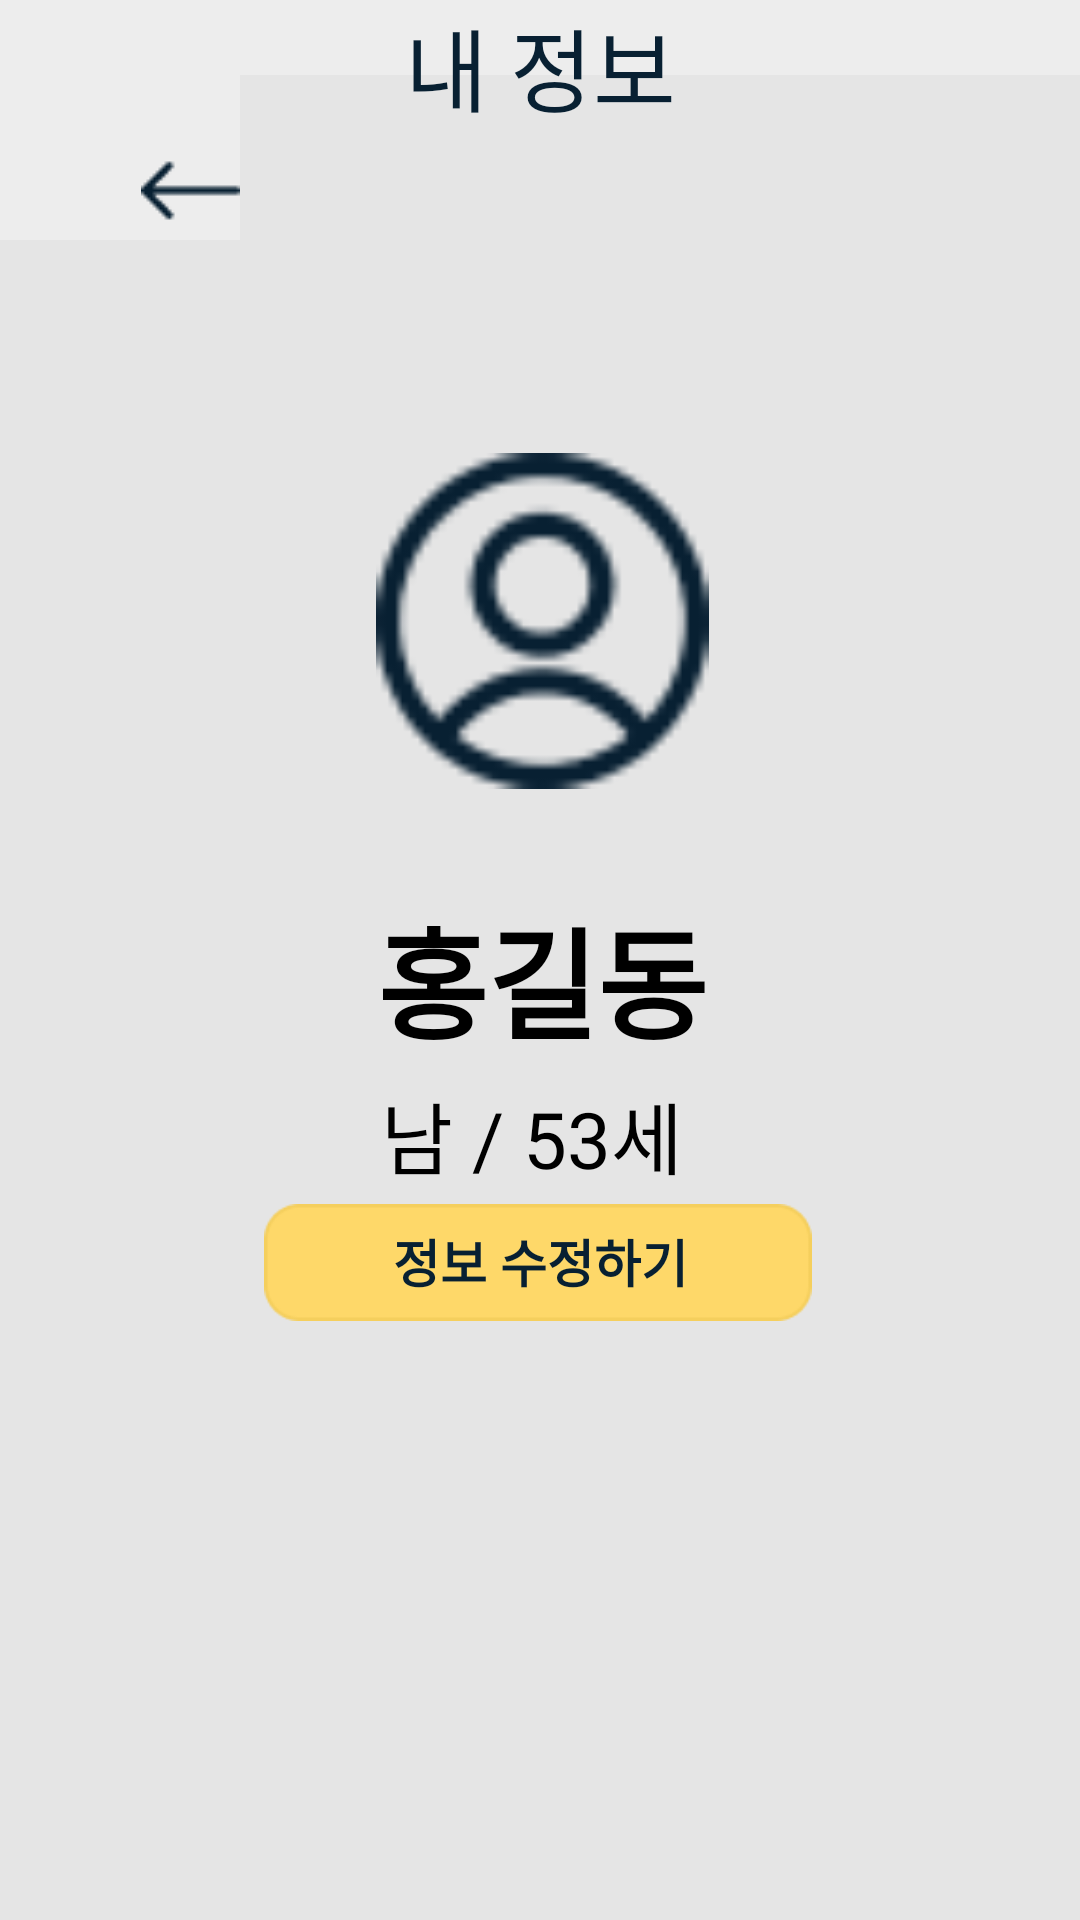

Point at icon controls on the screen. Image size 1080 × 1920, points as point (x, y).
arrow: point (190, 190)
user: point (542, 621)
